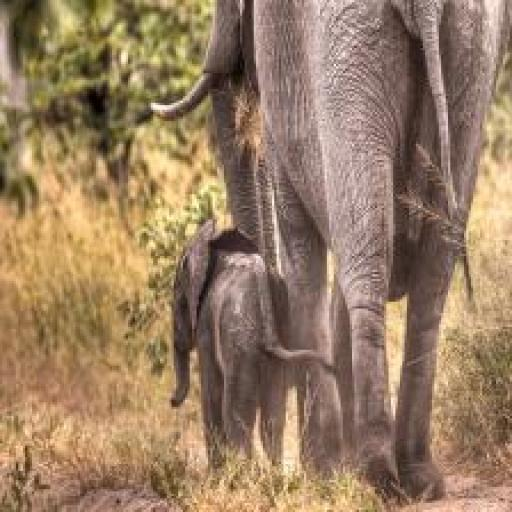Elephant: (137, 2, 508, 512), (142, 188, 352, 489)
